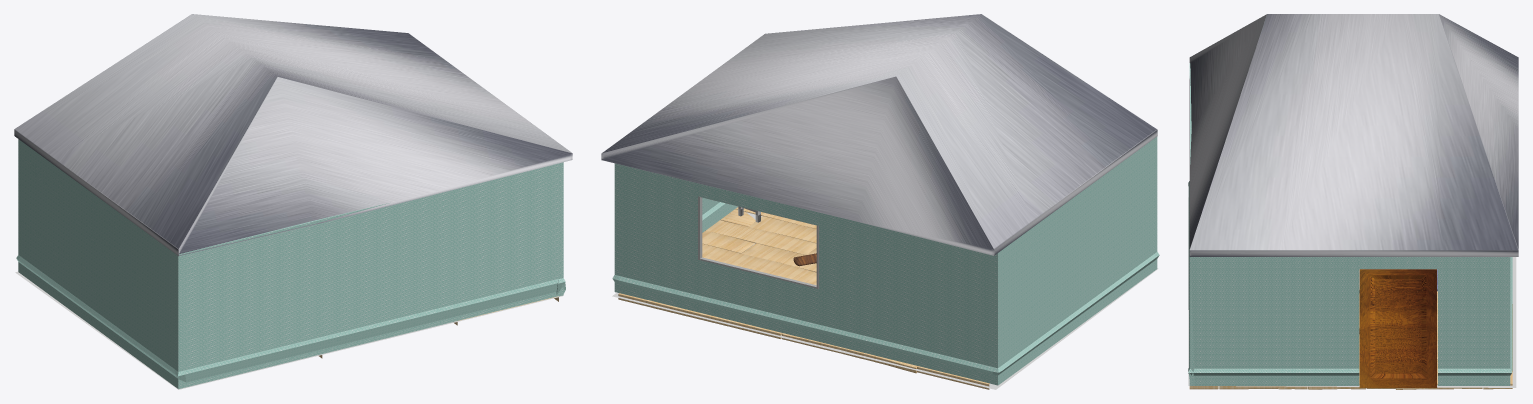
Rendered from cuarto final sin aviones.fbx.
3 views of the same model, side by side, from view 1: azimuth 30°, elevation 25°; view 2: azimuth 150°, elevation 25°; view 3: azimuth 270°, elevation 25° (orthographic).
Parts seen in each view (by area): view 1: techo, paredes, Plane; view 2: techo, paredes, Planks, Plane, Cube.001; view 3: techo, paredes, Box001, Planks, Plane.
Boxes of the visible parts, x1,y1,x2,y2 form: techo: [14, 14, 572, 255]; paredes: [16, 139, 565, 389]; Plane: [15, 271, 563, 389]; techo: [601, 14, 1157, 255]; paredes: [612, 137, 1159, 385]; Planks: [618, 207, 989, 389]; Plane: [612, 211, 1158, 389]; Cube.001: [698, 196, 818, 288]; techo: [1189, 14, 1518, 256]; paredes: [1188, 63, 1512, 385]; Box001: [1359, 269, 1436, 387]; Planks: [1189, 291, 1512, 389]; Plane: [1188, 197, 1516, 387].
Bounding box in the file's own units: 662 × 410 × 477.
